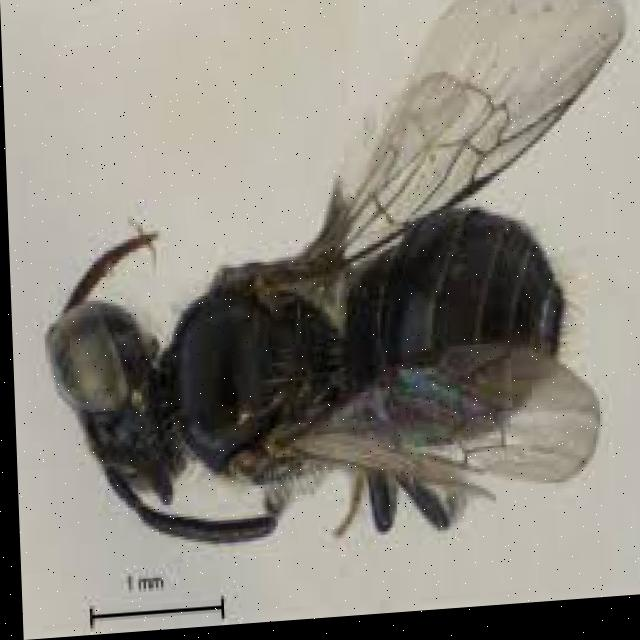Braunsapis: (29, 0, 623, 586)
